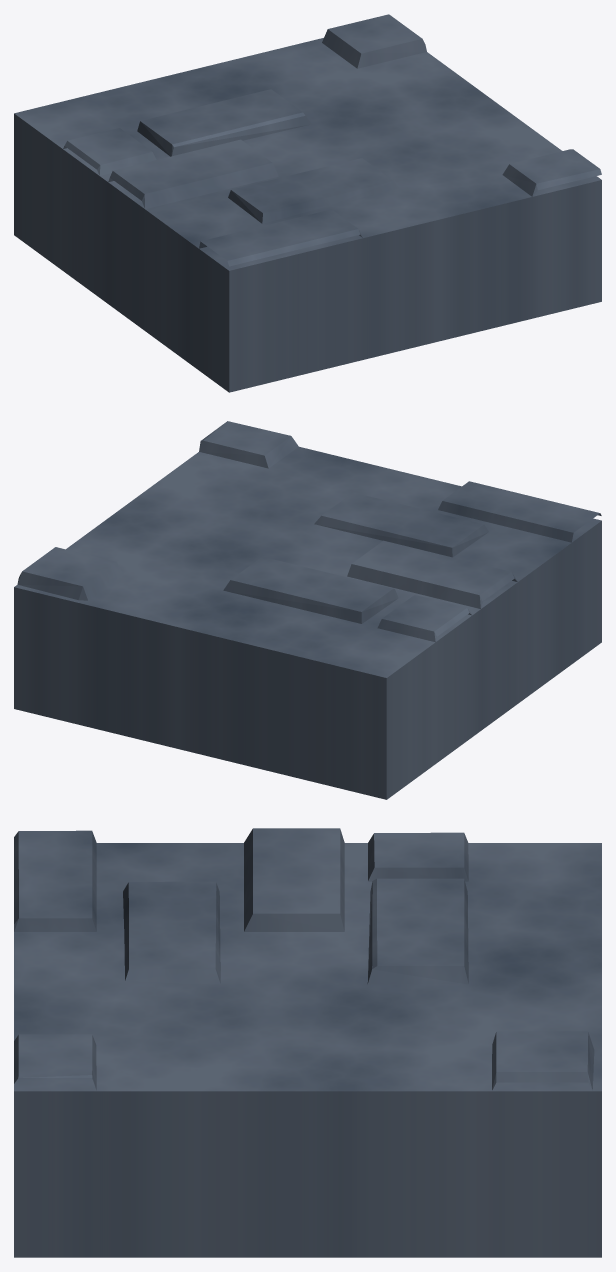
The model's file is BricksTile6.glb.
3 renders of one model, top to bottom at view 1: azimuth 30°, elevation 25°; view 2: azimuth 150°, elevation 25°; view 3: azimuth 270°, elevation 25°, orthographic. The views are drawn at different scales.
Visible parts, largest first — view 1: BricksTile6; view 2: BricksTile6; view 3: BricksTile6.
Part boxes in pixels (x1,y1,x2,y2): BricksTile6: (14, 14, 601, 392); BricksTile6: (14, 421, 601, 799); BricksTile6: (14, 828, 601, 1257).
Bounding box in the file's own units: 2 × 0.6894 × 2.
1 material, 1 textured.
